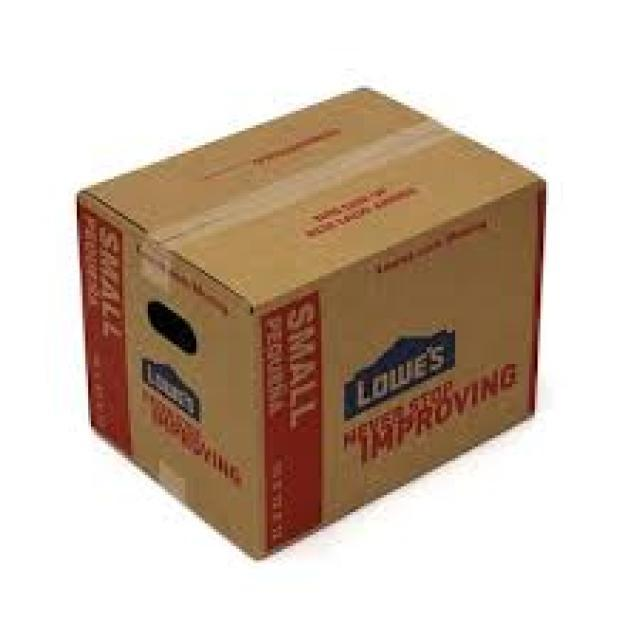Cardboard: (76, 81, 548, 563)
